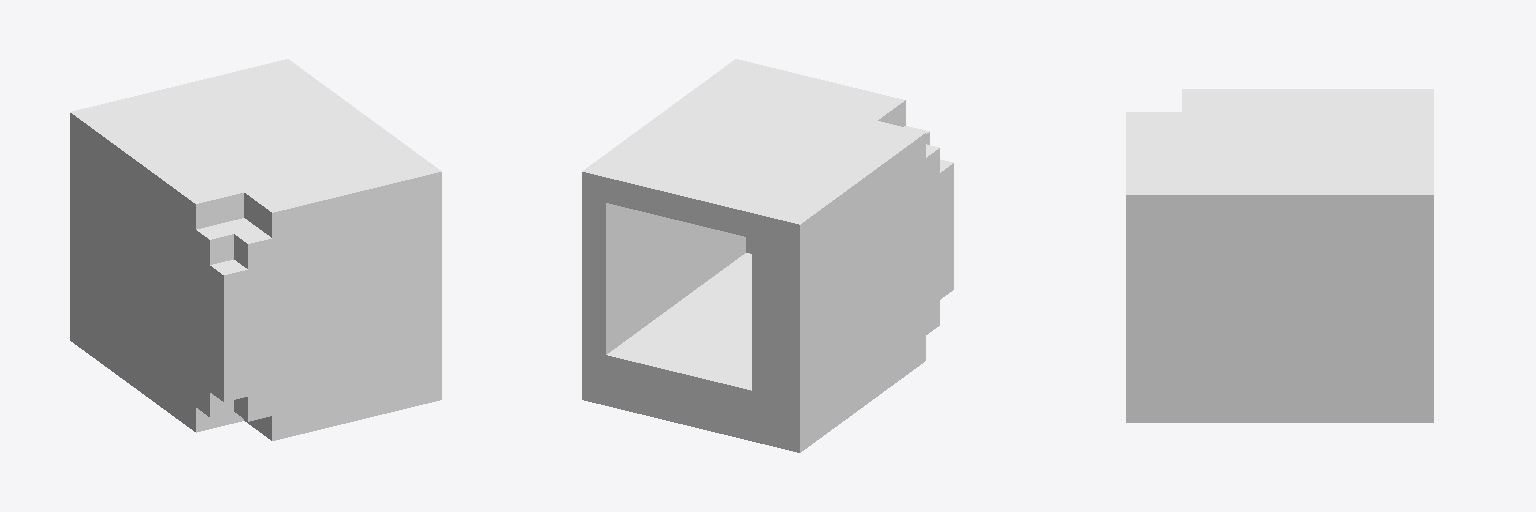
The model's file is humanoid-12.obj.
3 views of the same model, side by side, from view 1: azimuth 30°, elevation 25°; view 2: azimuth 150°, elevation 25°; view 3: azimuth 270°, elevation 25° (orthographic).
Visible parts, largest first — view 1: humanoid-12; view 2: humanoid-12; view 3: humanoid-12.
Boxes of the visible parts, box(x1,y1,x2,y2) form: humanoid-12: box(70, 59, 441, 440); humanoid-12: box(582, 59, 953, 452); humanoid-12: box(1126, 89, 1433, 422).
Bounding box in the file's own units: 9 × 9 × 11.